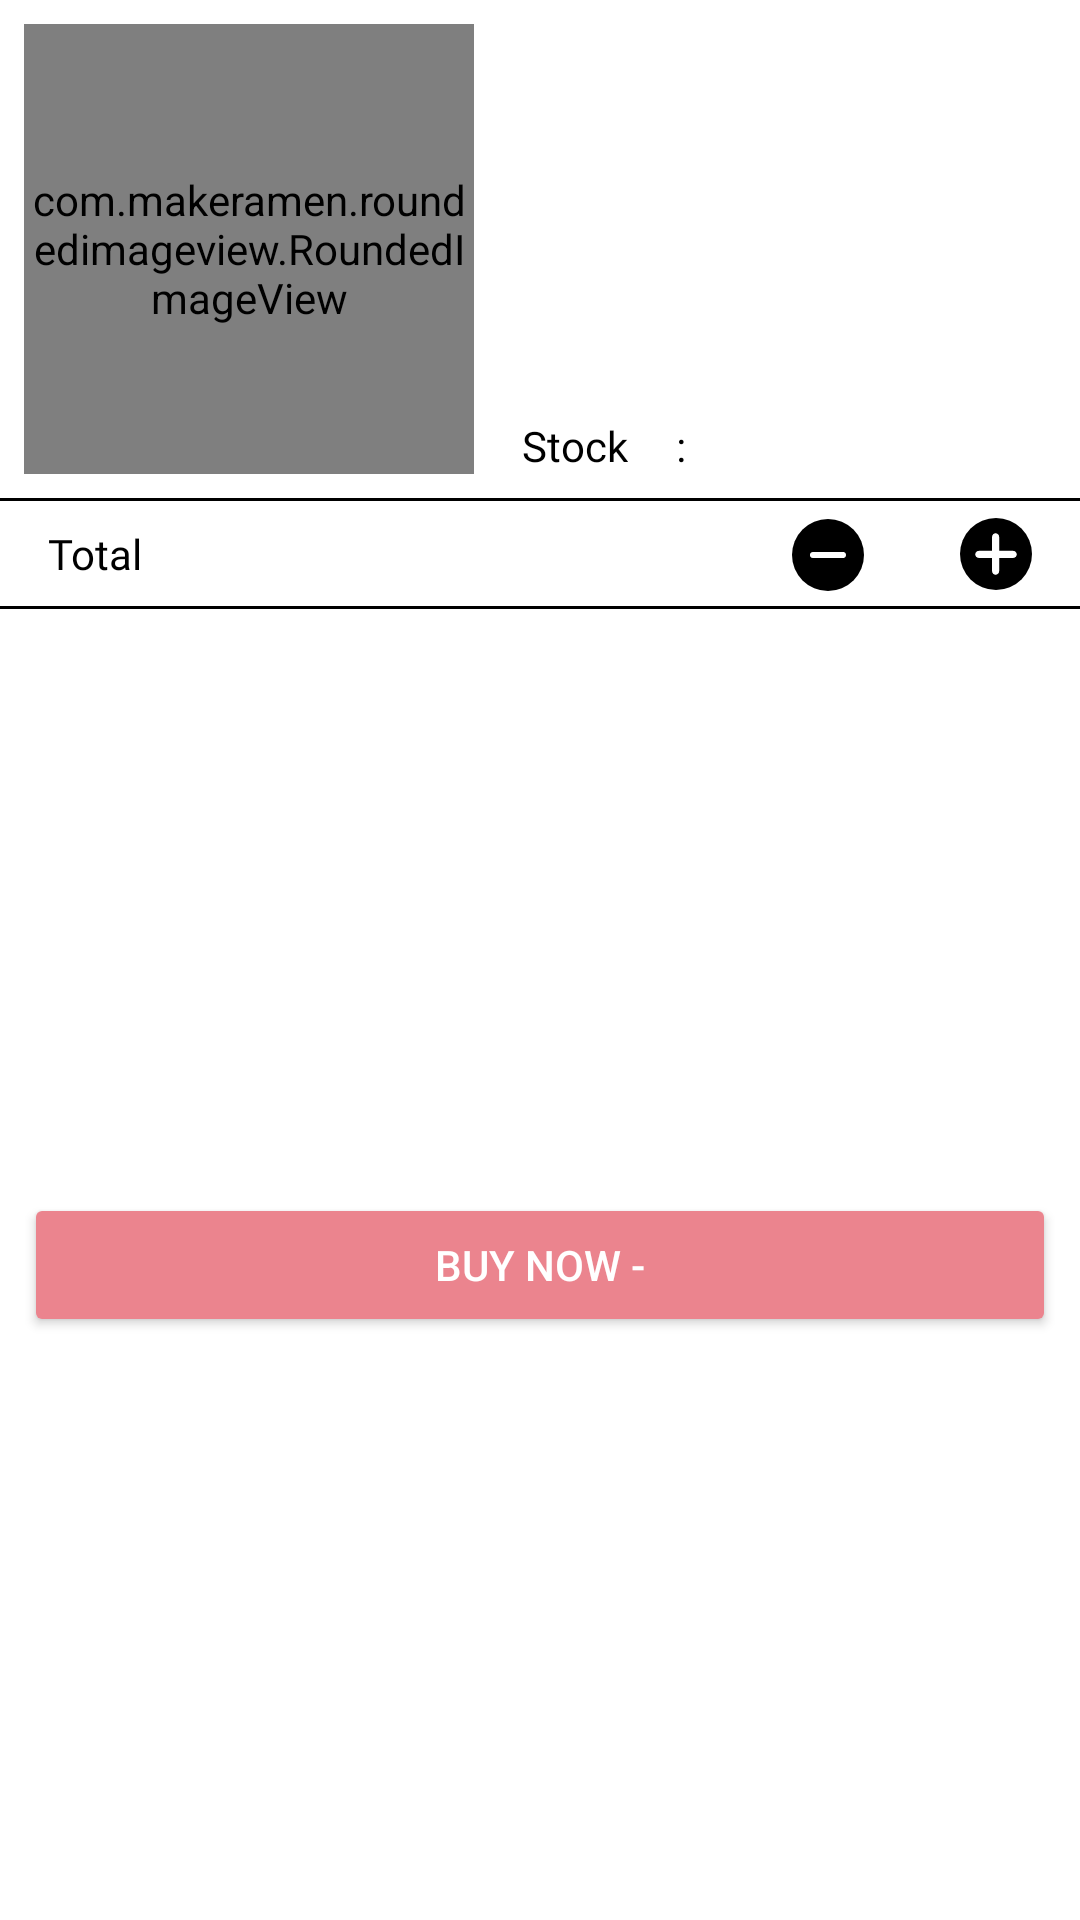

Named icons in this screenshot (1080x1920) and their centers, point (x, y):
decrease: point (828, 555)
increase: point (996, 554)
